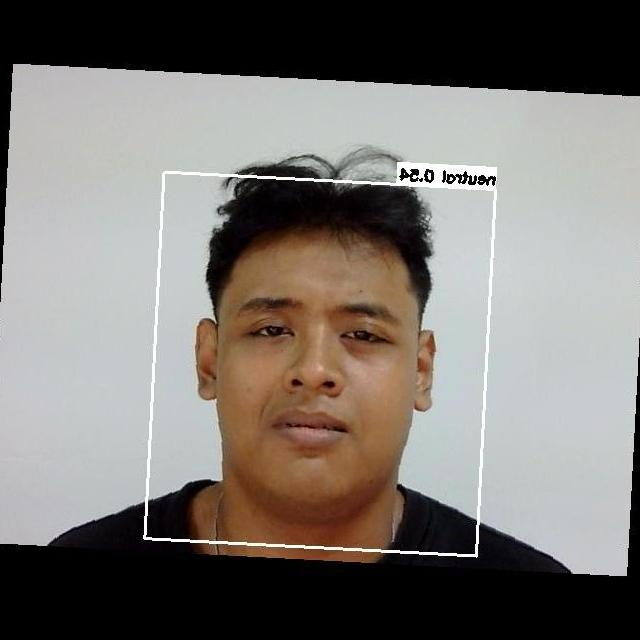Fear: (204, 262, 421, 472)
